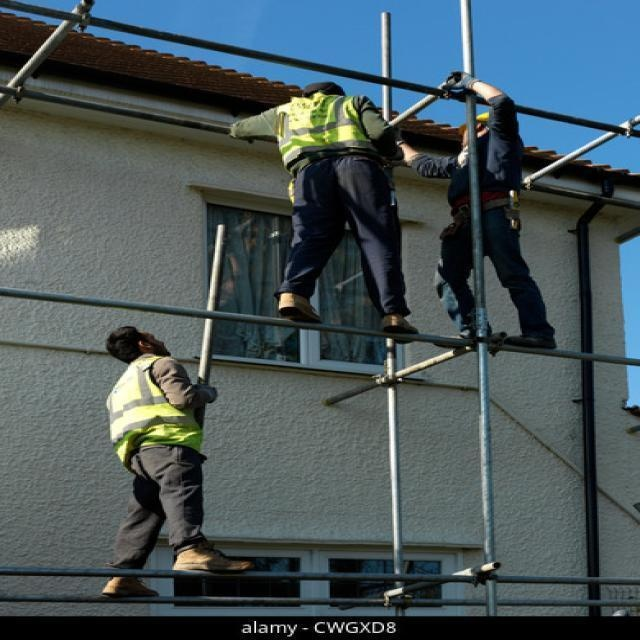Arnes_seguridad: (293, 147, 378, 170), (450, 189, 517, 212)
